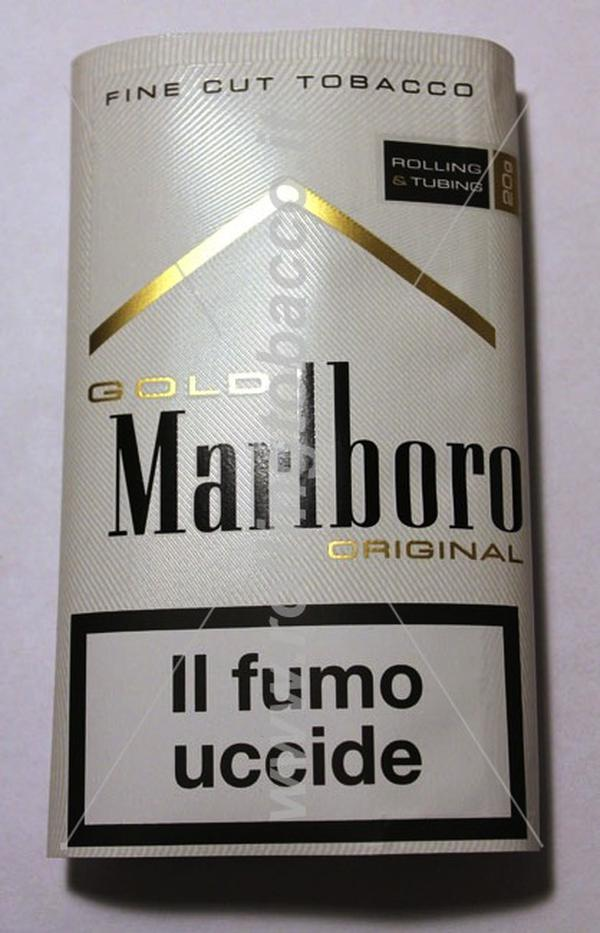marlboro_gold: (87, 49, 524, 857)
